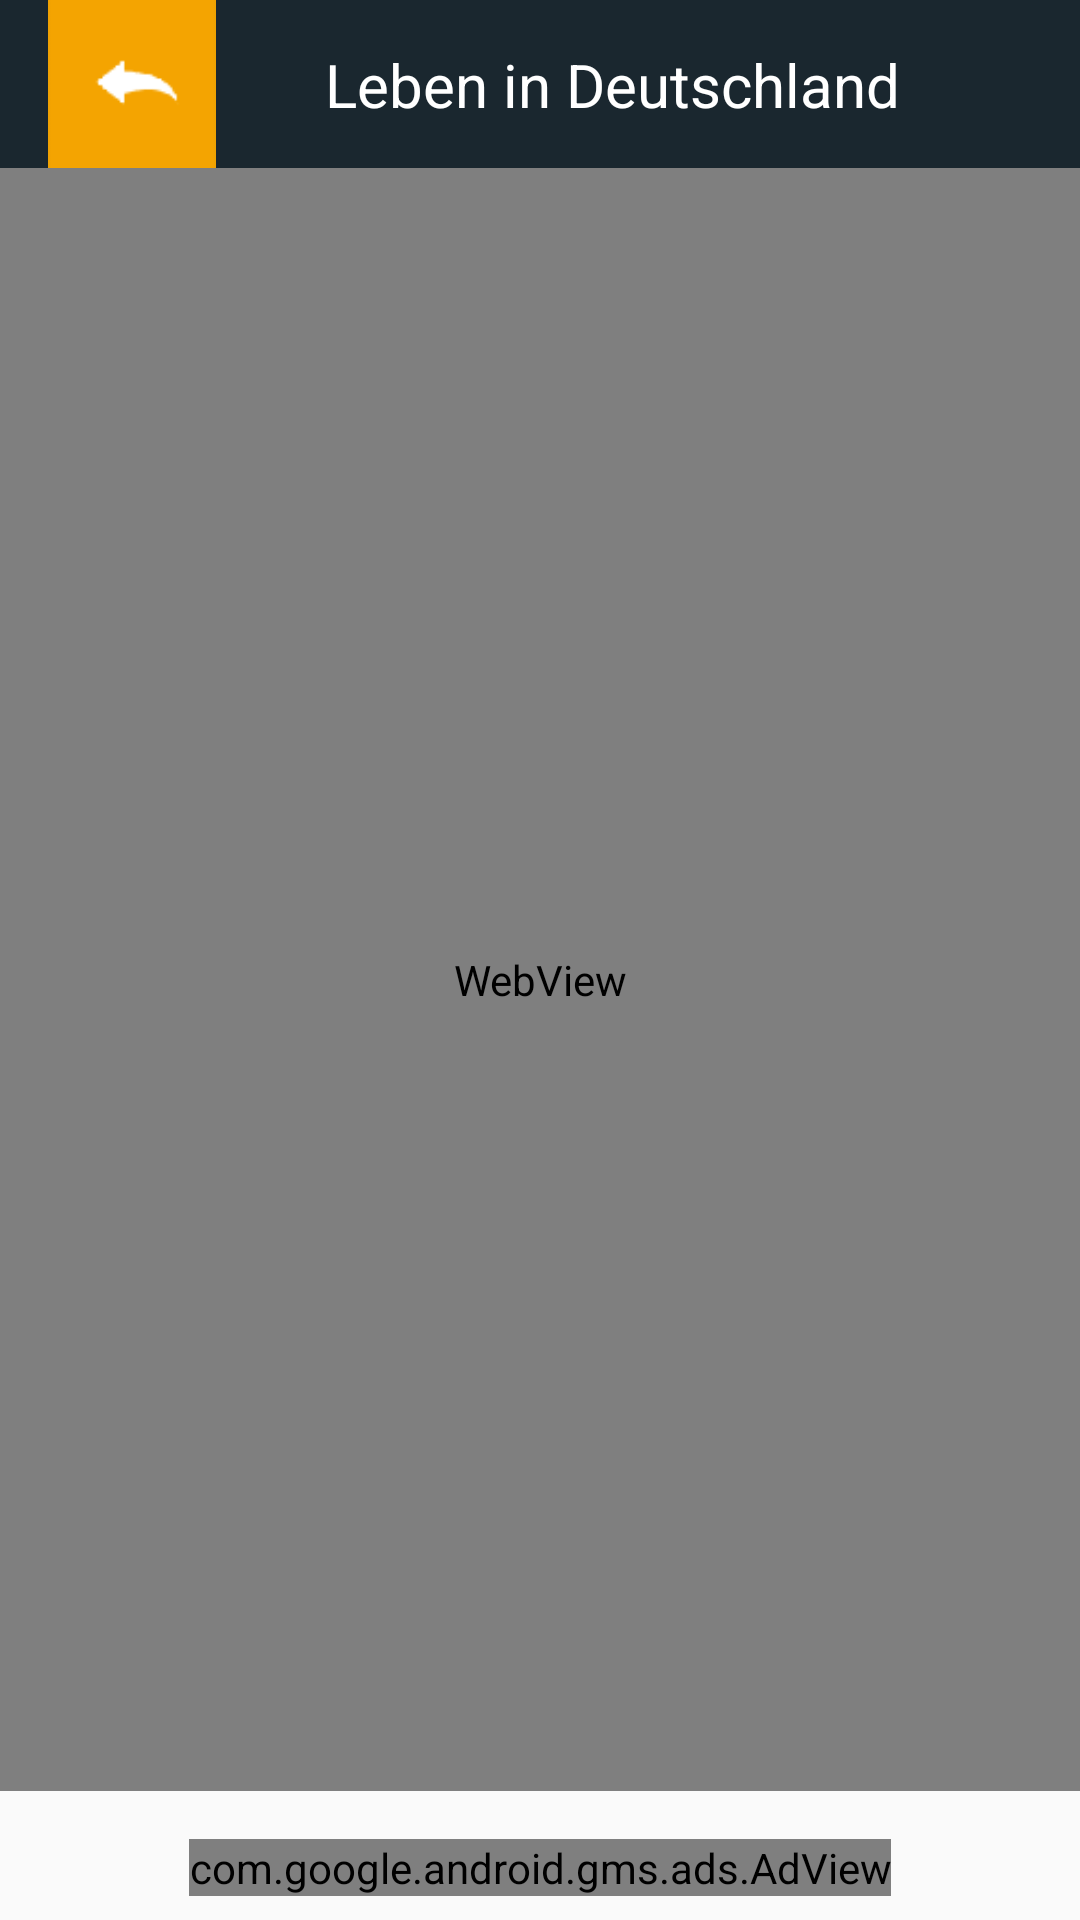

Locate icon controls on the screen. Image size 1080×1920, boxes as (x1, y1, x2, y2).
back: (48, 0, 216, 168)
